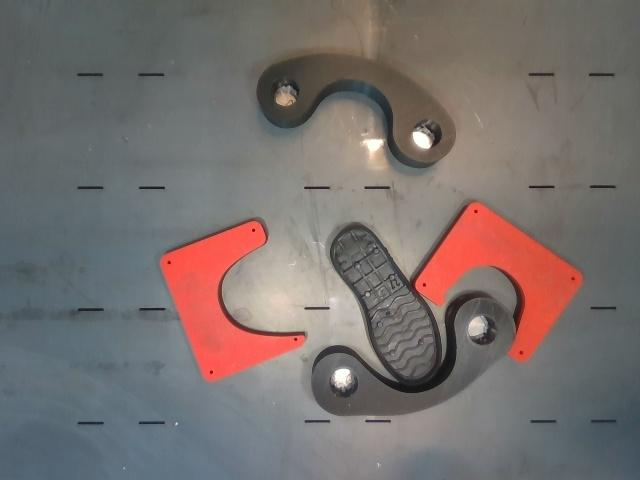shoes: (331, 226, 442, 385)
